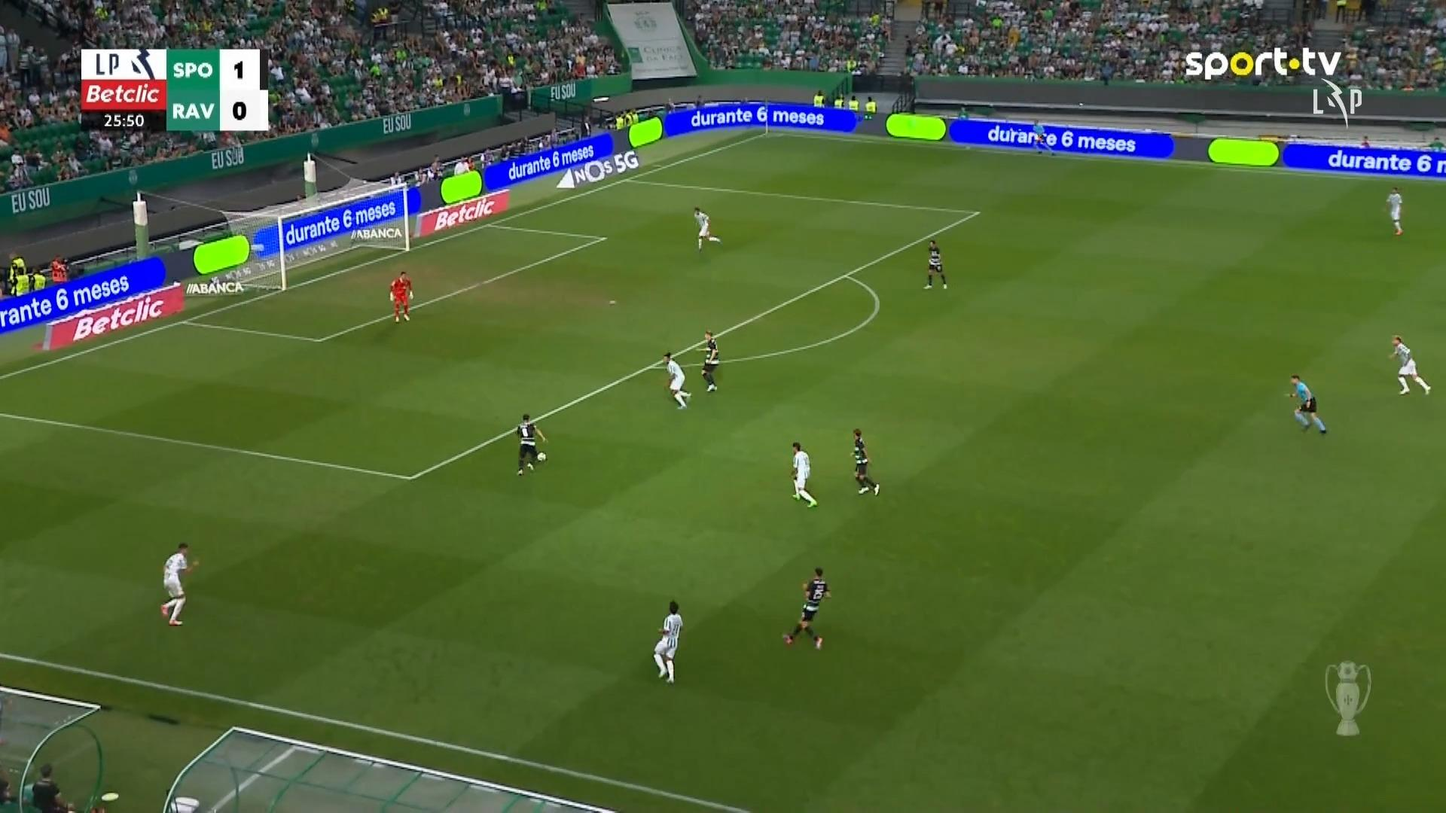ball: (536, 452, 546, 461)
goalkeeper: (389, 270, 413, 322)
player: (781, 566, 831, 650), (159, 541, 200, 626), (1387, 334, 1431, 395), (652, 600, 683, 684), (514, 413, 548, 476), (850, 428, 880, 495), (789, 441, 817, 507), (661, 351, 691, 410), (692, 206, 721, 251), (699, 329, 719, 392), (922, 239, 947, 289), (1385, 186, 1403, 236)
referee: (1286, 373, 1327, 435), (1031, 119, 1054, 155)
